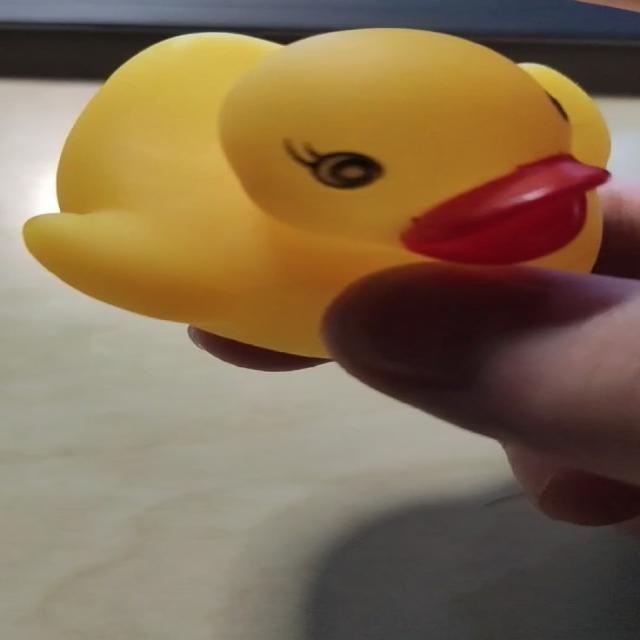rubber-duck: (23, 28, 608, 355)
